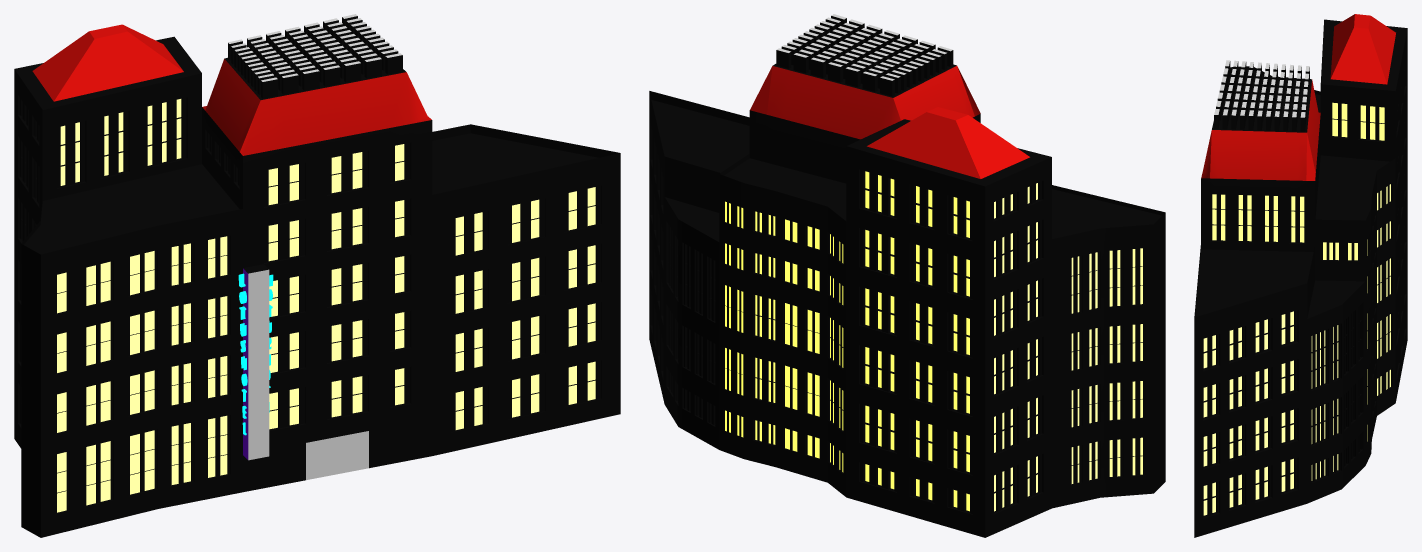
The model's file is achilles_complex.fbx.
3 renders of one model, left to right at view 1: azimuth 30°, elevation 25°; view 2: azimuth 150°, elevation 25°; view 3: azimuth 270°, elevation 25°, orthographic. The views are drawn at different scales.
Parts seen in each view (by area): view 1: achilles_complex; view 2: achilles_complex; view 3: achilles_complex.
Part boxes in pixels (box(x1,y1,x2,y2)): achilles_complex: box(14, 14, 620, 537); achilles_complex: box(649, 14, 1165, 537); achilles_complex: box(1194, 14, 1407, 537).
Bounding box in the file's own units: 1759 × 1221 × 681.
